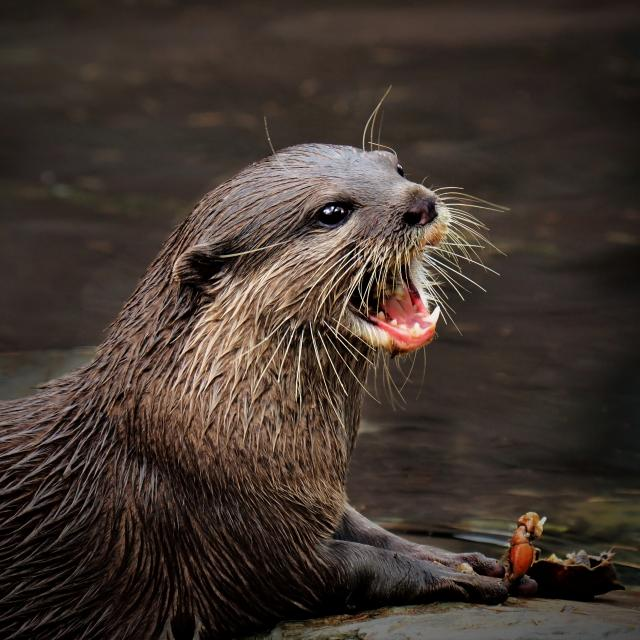otter: (1, 143, 458, 640)
